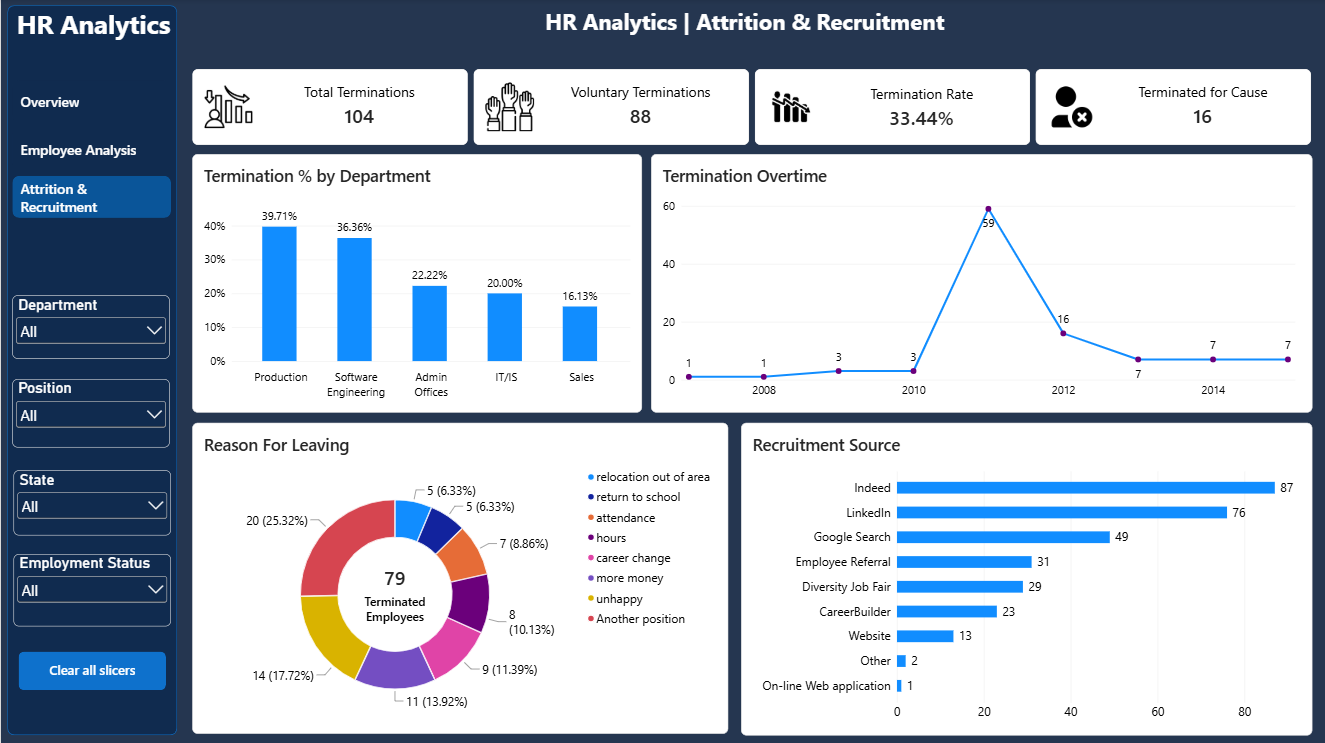

The dashboard page shown, as its layout file describes it:
{"tool":"powerbi","page":{"name":"Attrition & Recruitment","canvas":[1920,1080],"ordinal":2},"visuals":[{"type":"clusteredColumnChart","fields":{"Category":["HRData.Department"],"Y":["HRData.Termination %"]},"box":[276.9,224.4,651.5,374.6],"z":0},{"type":"clusteredBarChart","title":"Recruitment Source","fields":{"Category":["HRData.RecruitmentSource"],"Y":["HRData.Total Employees"]},"box":[1071.3,613.5,827,452.4],"z":1000},{"type":"lineChart","title":"Termination Overtime","fields":{"Y":["HRData.Terminated Employees"],"Category":["Calendar.Year"]},"box":[941,224.4,957.3,374.6],"z":2000},{"type":"shape","box":[9,9,246,1056.8],"z":3000},{"type":"pageNavigator","box":[16.3,117.6,230,200],"z":4000},{"type":"slicer","fields":{"Values":["HRData.Department"]},"box":[16.3,428.9,228,92.3],"z":5000},{"type":"slicer","fields":{"Values":["HRData.Position"]},"box":[16.3,550.1,228,99.5],"z":6000},{"type":"slicer","fields":{"Values":["HRData.State"]},"box":[18.1,682.2,228,94.1],"z":7000},{"type":"slicer","fields":{"Values":["HRData.EmploymentStatus"]},"box":[18.1,803.5,228,105],"z":8000},{"type":"textbox","box":[19.9,10,228,57.9],"z":9000},{"type":"textbox","box":[266,10,1621.5,61.5],"z":10000},{"type":"donutChart","title":"Reason For Leaving","fields":{"Category":["HRData.TermReason"],"Y":["HRData.Terminated Employees"]},"box":[276.9,613.5,776.3,450.6],"z":11000},{"type":"cardVisual","fields":{"Data":["HRData.Terminated Employees","HRData.Voluntary Terminations","HRData.Termination %","HRData.Terminated for Cause"]},"box":[276.9,101.3,1621.5,110.4],"z":12000},{"type":"actionButton","box":[25.3,944.6,213.5,56.1],"z":13000}]}

Visuals, with their boxes in screenshot pixels (x1, y1, x2, y2), scaled from the page's 1920x1080 canvas onto the 1325x743 screenshot:
clusteredColumnChart - HRData.Department x HRData.Termination %: [191,154,641,412]
"Recruitment Source" clusteredBarChart: [739,422,1310,733]
"Termination Overtime" lineChart: [649,154,1310,412]
shape: [6,6,176,733]
pageNavigator: [11,81,170,218]
slicer - HRData.Department: [11,295,169,359]
slicer - HRData.Position: [11,378,169,447]
slicer - HRData.State: [12,469,170,534]
slicer - HRData.EmploymentStatus: [12,553,170,625]
textbox: [14,7,171,47]
textbox: [184,7,1303,49]
"Reason For Leaving" donutChart: [191,422,727,732]
cardVisual - HRData.Terminated Employees x HRData.Voluntary Terminations: [191,70,1310,146]
actionButton: [17,650,165,688]
